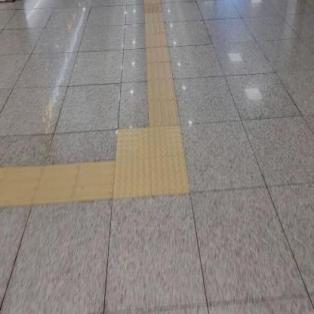Podoctatil: (94, 98, 204, 220), (0, 160, 113, 214), (143, 0, 181, 125)
